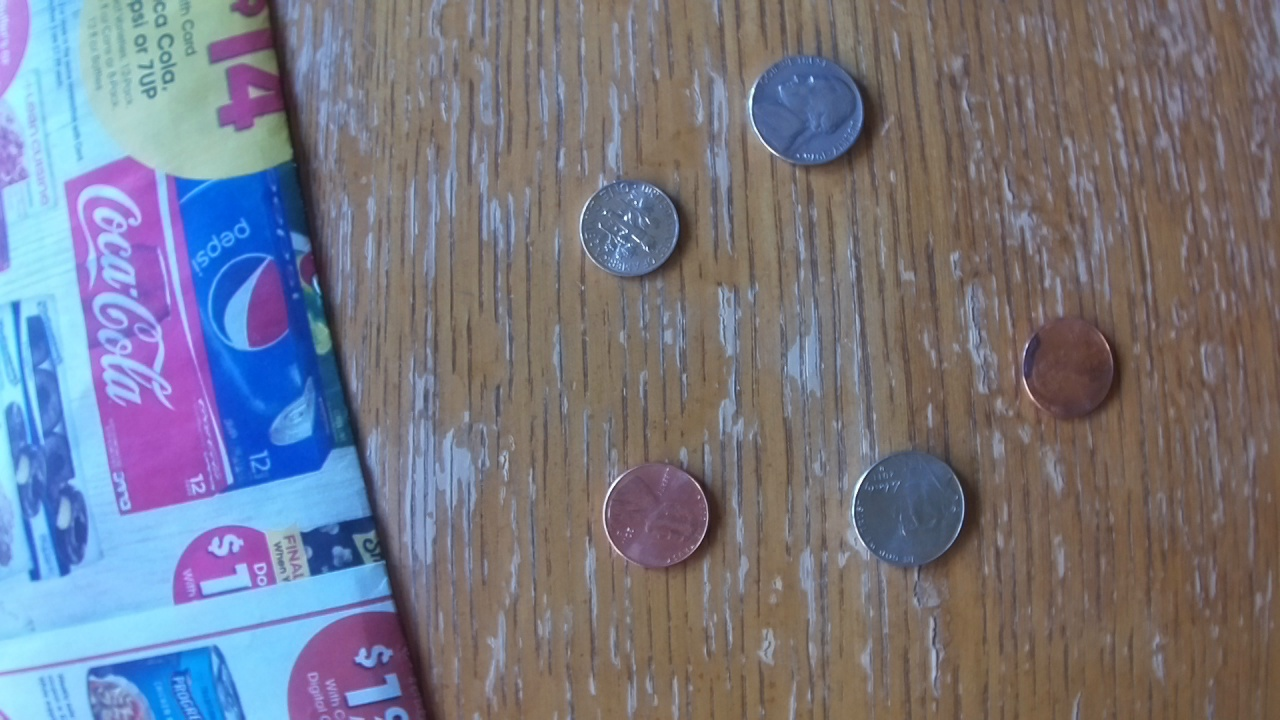dime: (576, 174, 686, 282)
nickel: (846, 448, 970, 570), (742, 57, 876, 167)
penny: (593, 458, 723, 572), (1024, 314, 1118, 422)
